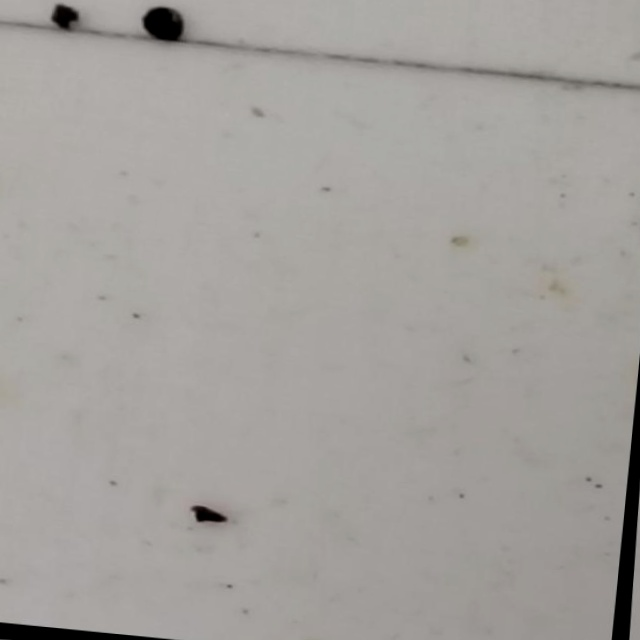varroa: (138, 6, 186, 44)
